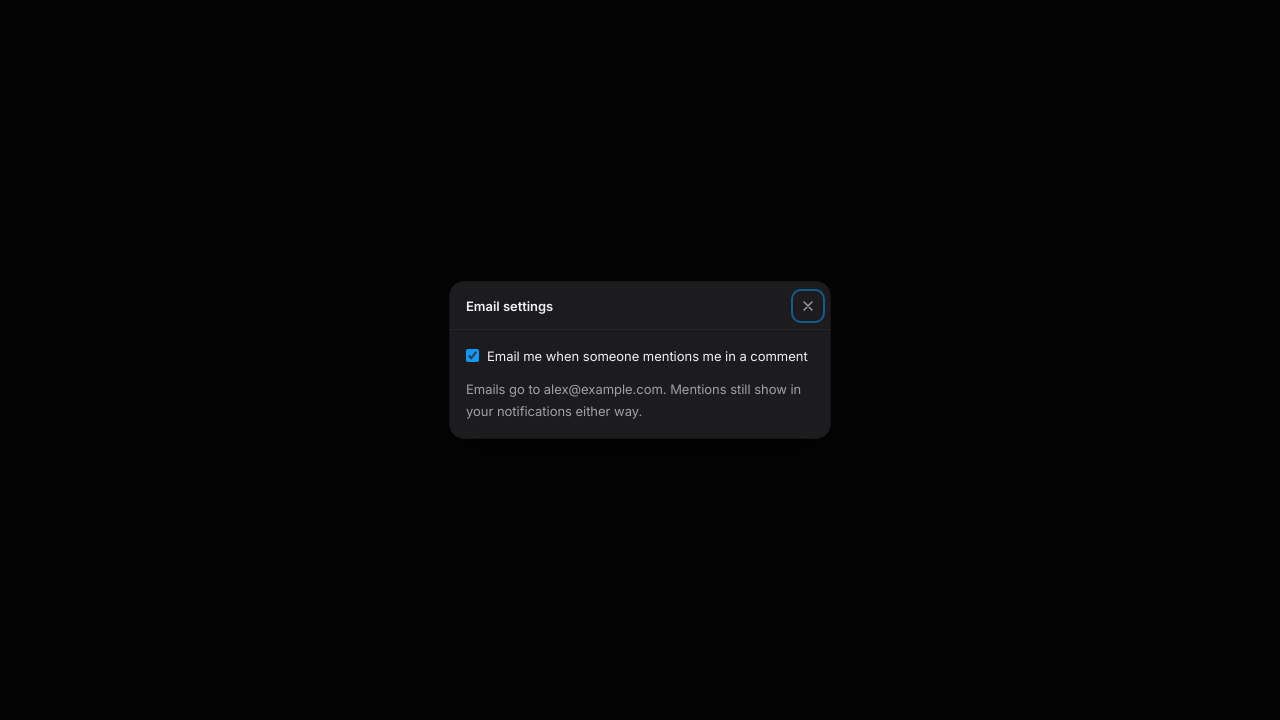
Test: the email settings › turns mention emails off
This screenshot has width=1280, height=720.
Click the checkbox labelled "Email me when someone mentions me in a comment". click: (472, 356)
box: x1=466 y1=349 x2=479 y2=362
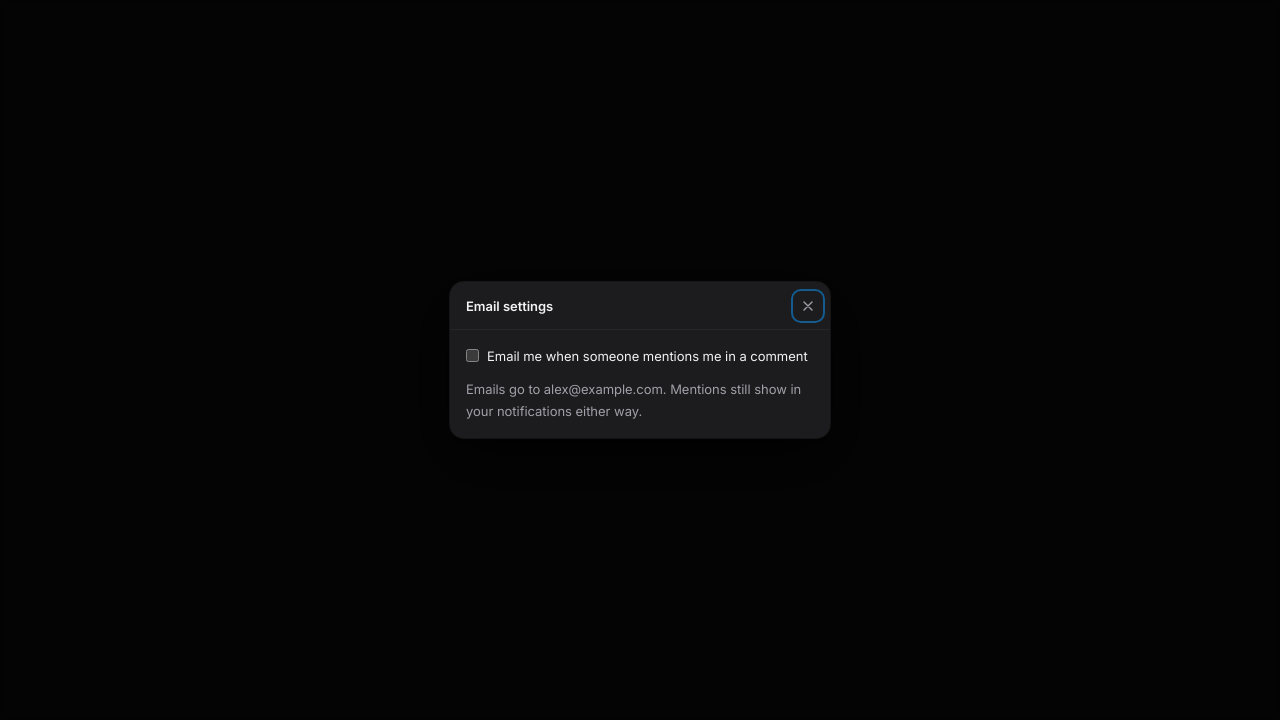
Result: the checkbox is not checked at x1=466 y1=349 x2=479 y2=362
